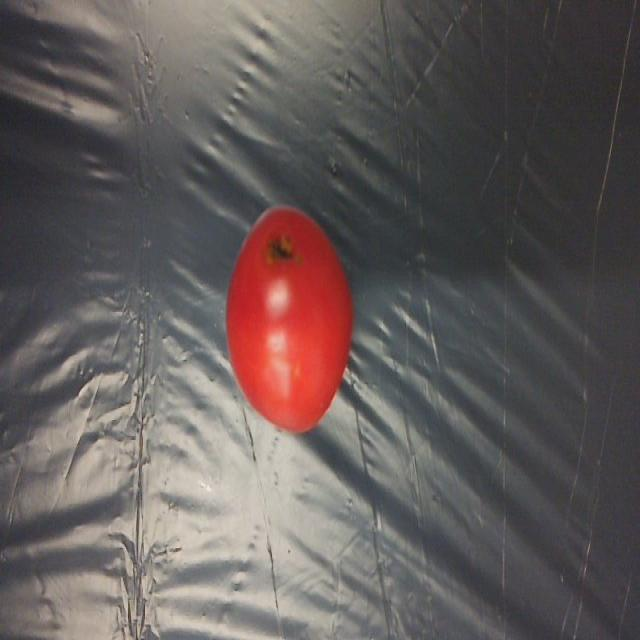ripe tomato: (216, 201, 358, 434)
